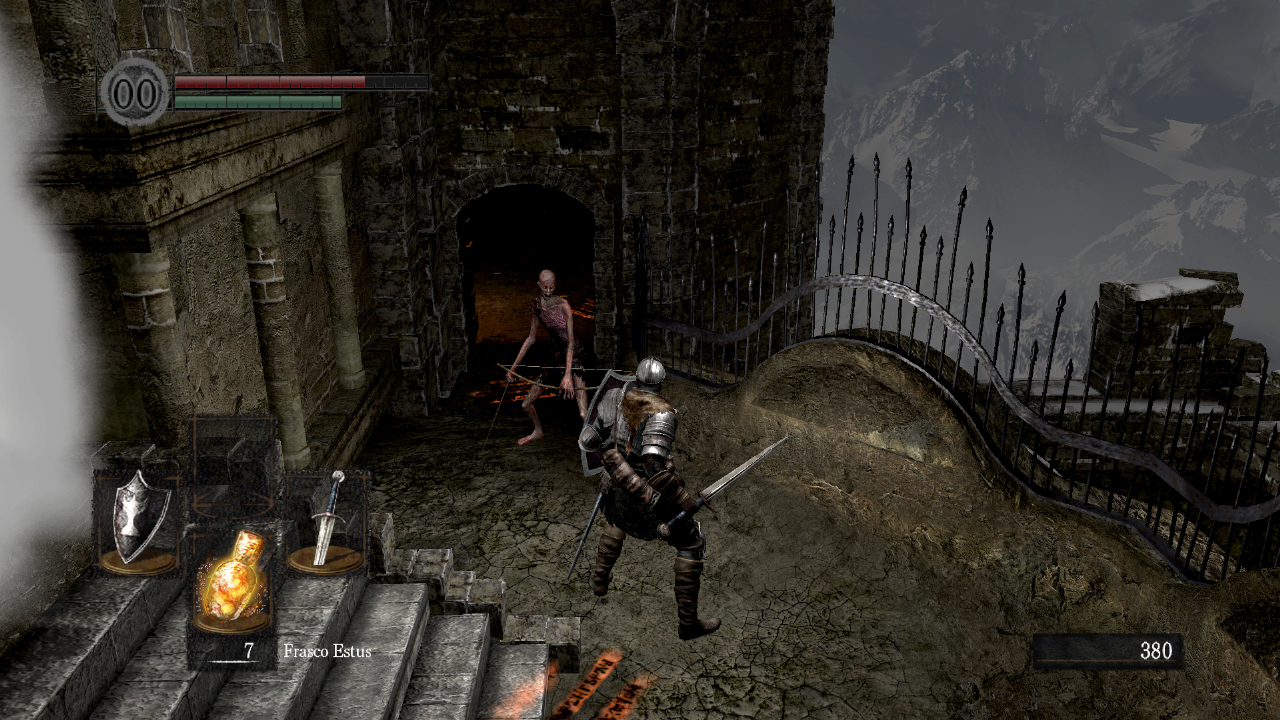hollow: (482, 269, 633, 451)
player: (567, 354, 788, 641)
